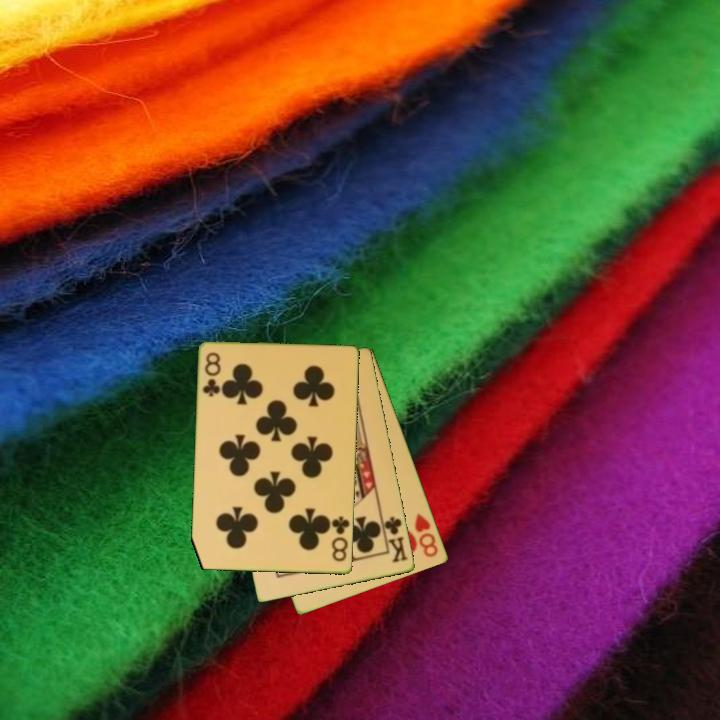8c: (327, 513, 352, 565), (200, 349, 224, 400)
8h: (411, 510, 441, 560)
Kc: (378, 513, 411, 566)
